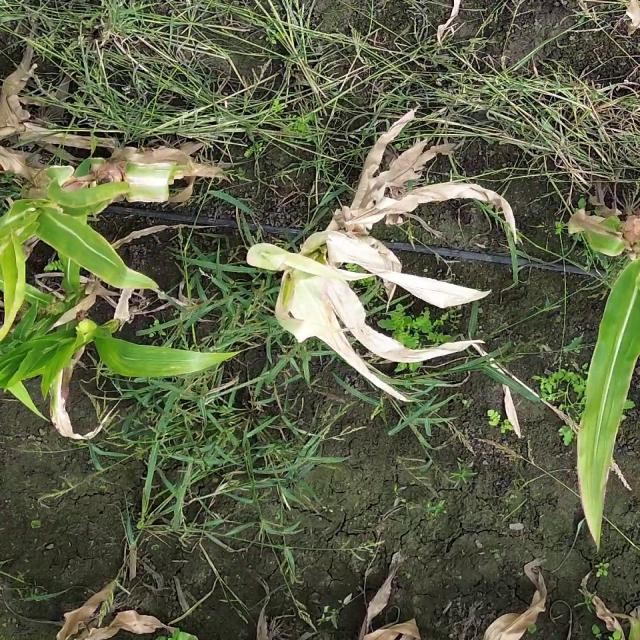gray-leaf-spot: (97, 342, 227, 384)
